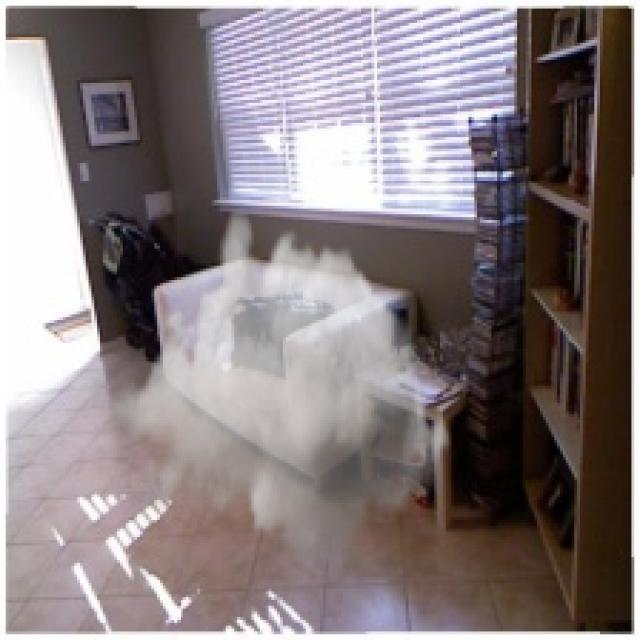smoke: (109, 203, 454, 577)
